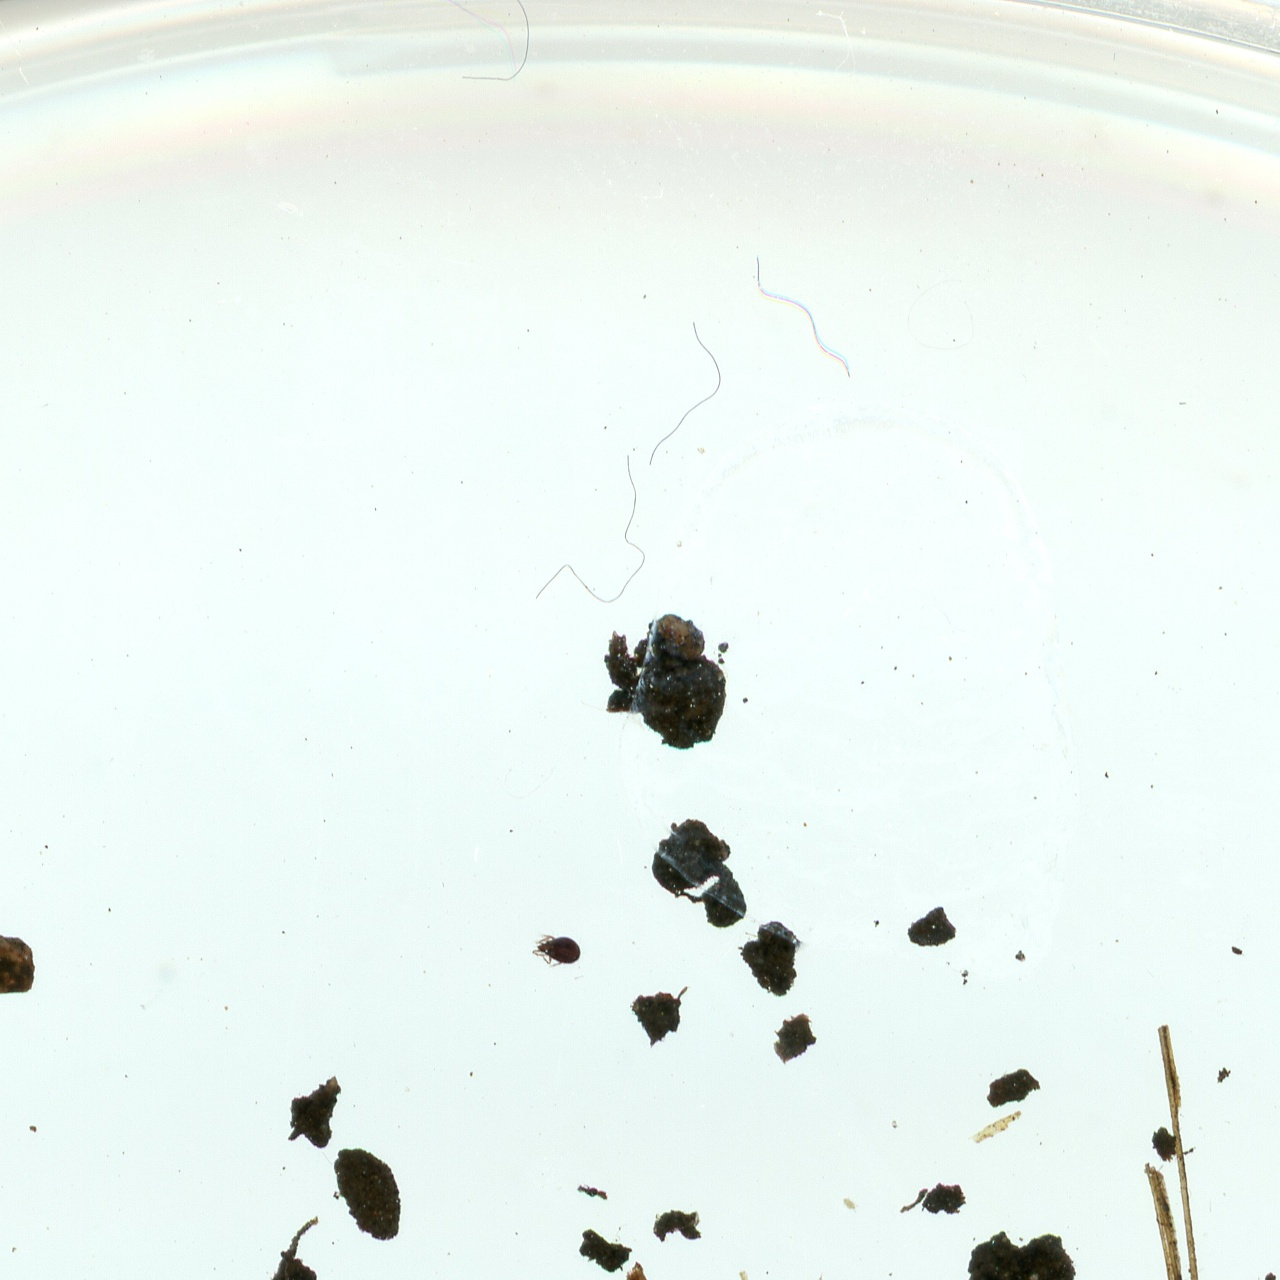arthropod: (528, 929, 584, 972)
